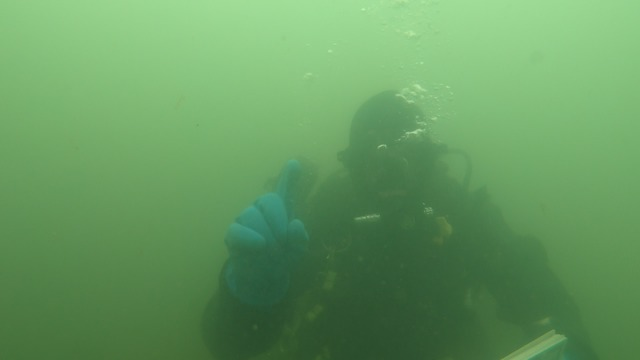Diver: (188, 65, 595, 358)
Hand: (213, 172, 328, 311)
Head: (317, 73, 462, 245)
